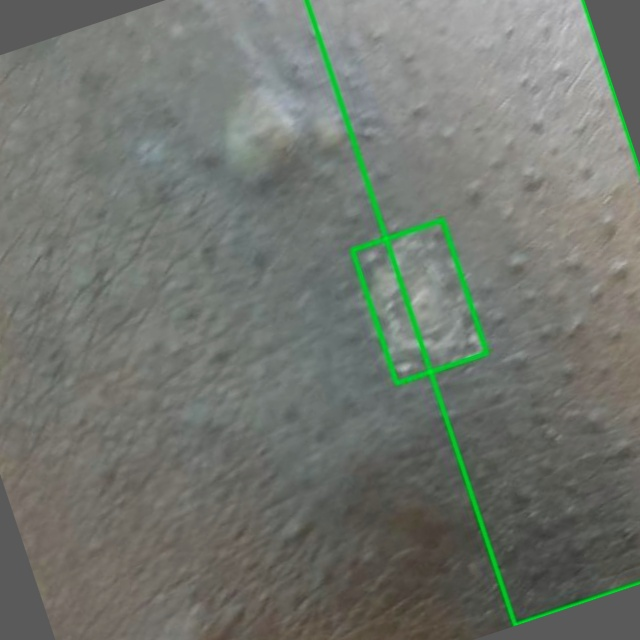Seborrheic Dermatitis: (307, 0, 639, 624), (352, 220, 486, 383)
